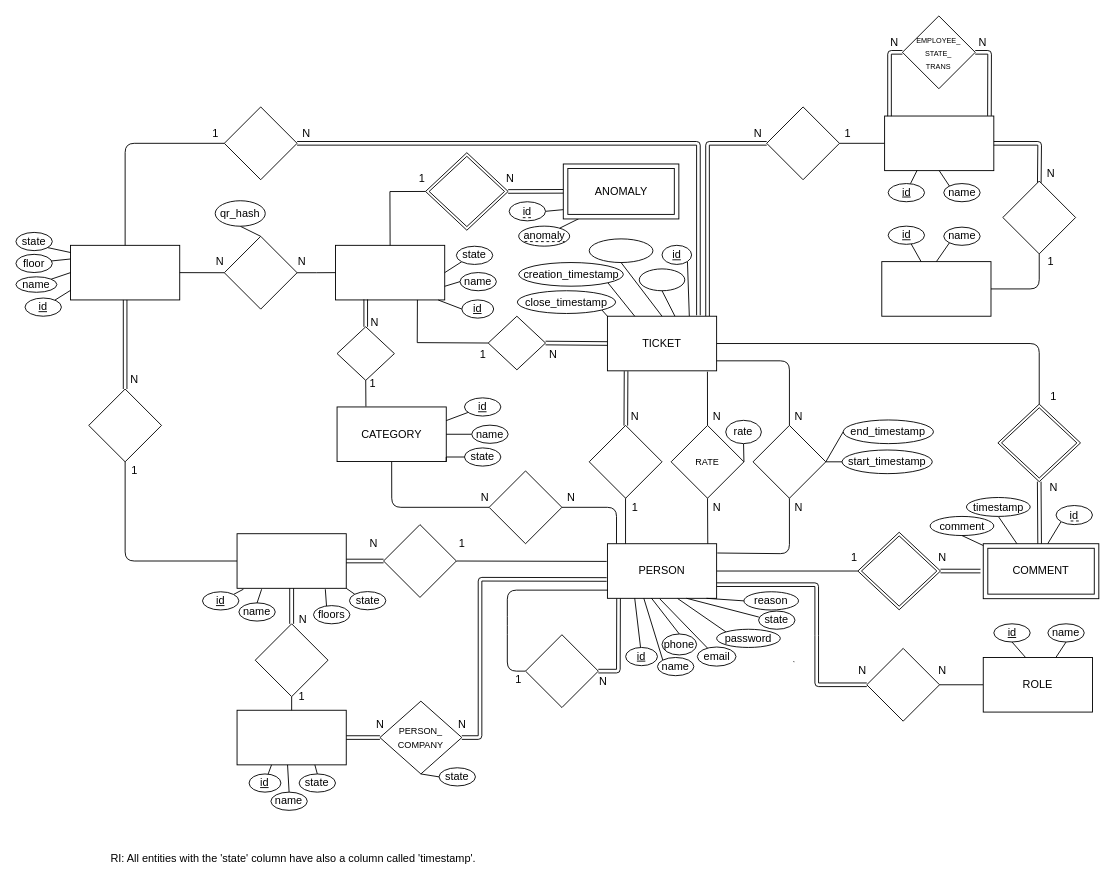
The diagram is 1115 pixels wide and 888 high, and some of its shapes have lost their labels. The shapes that lost their labels are listed below. From the top down, each one's centre as x and y in pixels, then its label:
point (939, 143): EMPLOYEE_STATE
point (620, 250): description
point (125, 272): ROOM
point (260, 272): ROOM_ DEVICE
point (390, 272): DEVICE
point (661, 279): subject
point (936, 288): USER_STATE
point (625, 461): REPORTED BY
point (789, 461): FIXING_BY
point (525, 507): PERSON_ SKILL
point (291, 560): BUILDING
point (903, 684): PERSON_ ROLE
point (291, 737): COMPANY
